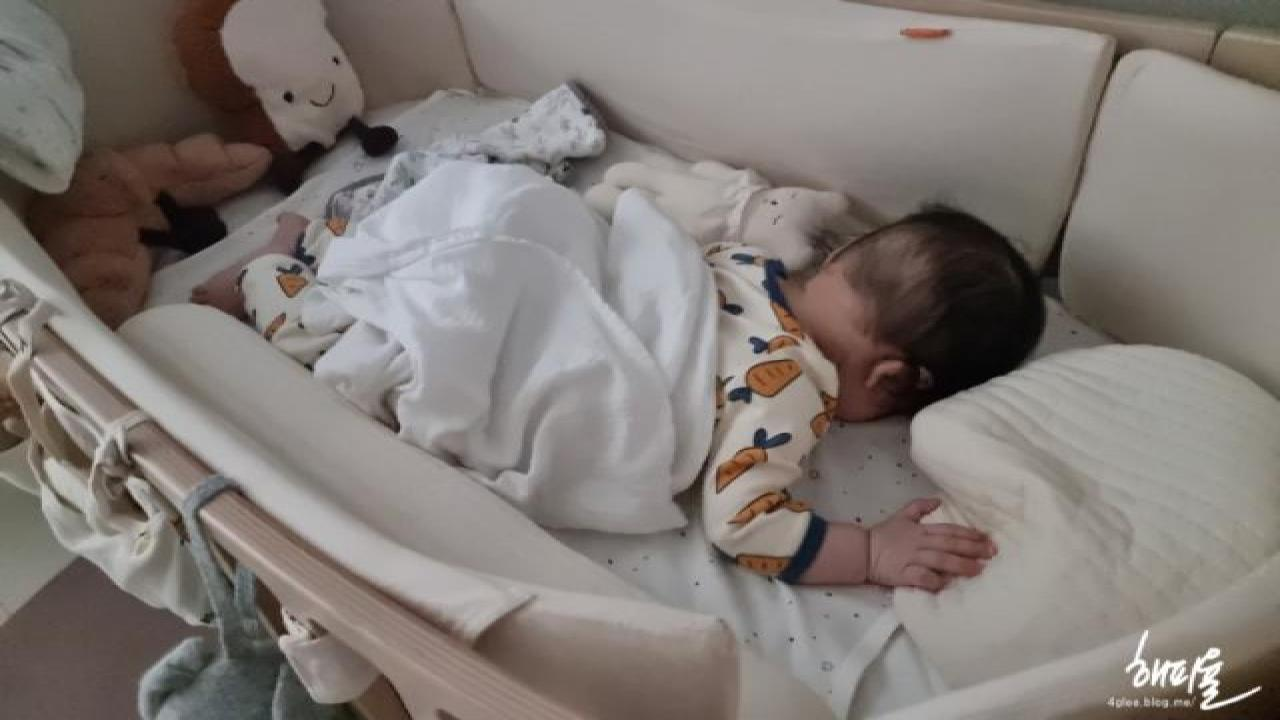hand: (864, 493, 1000, 597)
